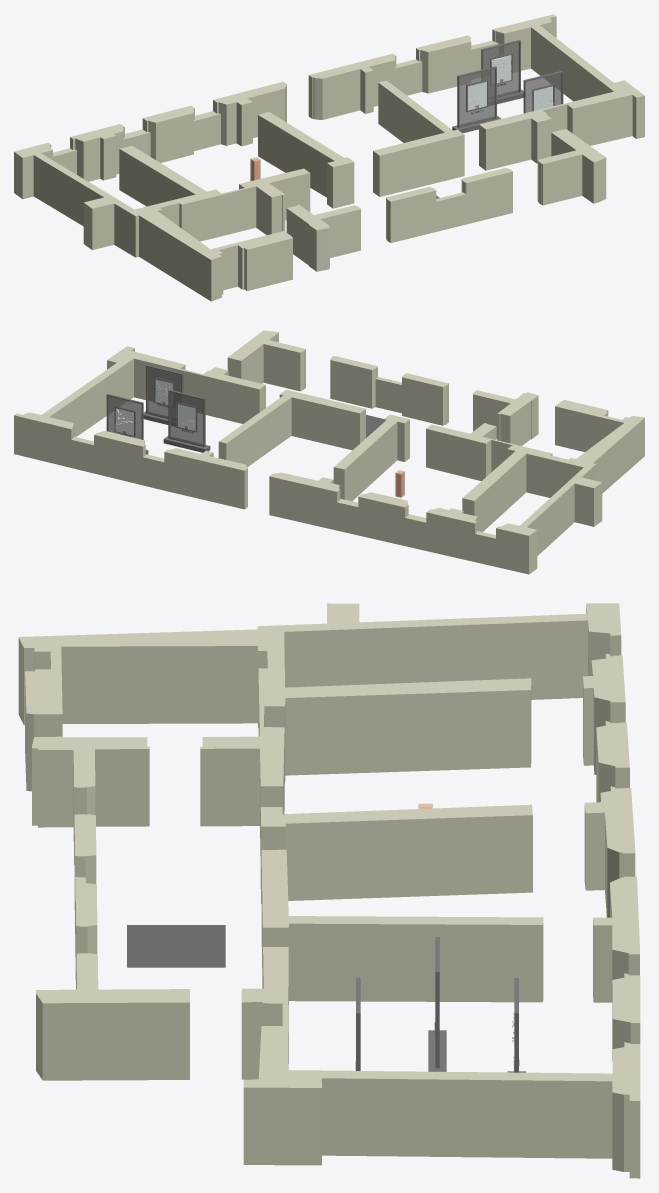
File: planar6.obj
3 views of the same model, one above another, from view 1: azimuth 30°, elevation 25°; view 2: azimuth 150°, elevation 25°; view 3: azimuth 270°, elevation 25° (orthographic). The views are drawn at different scales.
Parts seen in each view (by area): view 1: Mesh3 Model, Mesh2 Model, Mesh6 Model, Mesh4 Model, Mesh5 Model, Mesh7 Model, Mesh8 Model, Mesh11 Model, Mesh10 Model, Mesh9 Model; view 2: Mesh3 Model, Mesh2 Model, Mesh6 Model, Mesh4 Model, Mesh5 Model, Mesh7 Model, Mesh8 Model, Mesh11 Model, Mesh9 Model, Mesh10 Model; view 3: Mesh3 Model, Mesh2 Model, Mesh6 Model, Mesh5 Model, Mesh7 Model, Mesh8 Model, Mesh1 Model, Mesh4 Model, Mesh11 Model.
Boxes of the visible parts, x1,y1,x2,y2 form: Mesh3 Model: [14, 81, 310, 301]; Mesh2 Model: [308, 14, 644, 170]; Mesh6 Model: [373, 80, 464, 196]; Mesh4 Model: [386, 168, 512, 242]; Mesh5 Model: [258, 112, 354, 208]; Mesh7 Model: [537, 129, 606, 205]; Mesh8 Model: [286, 204, 360, 271]; Mesh11 Model: [452, 66, 501, 133]; Mesh10 Model: [481, 40, 523, 105]; Mesh9 Model: [523, 71, 563, 113]; Mesh3 Model: [269, 400, 644, 574]; Mesh2 Model: [14, 346, 265, 509]; Mesh6 Model: [218, 389, 365, 466]; Mesh4 Model: [330, 356, 448, 425]; Mesh5 Model: [333, 414, 409, 501]; Mesh7 Model: [227, 330, 305, 391]; Mesh8 Model: [473, 390, 538, 445]; Mesh11 Model: [163, 389, 210, 452]; Mesh9 Model: [143, 365, 183, 426]; Mesh10 Model: [106, 394, 148, 454]; Mesh3 Model: [18, 603, 635, 917]; Mesh2 Model: [241, 876, 640, 1178]; Mesh6 Model: [261, 849, 543, 1004]; Mesh5 Model: [260, 804, 532, 903]; Mesh7 Model: [36, 953, 189, 1080]; Mesh8 Model: [32, 736, 149, 864]; Mesh1 Model: [127, 925, 225, 967]; Mesh4 Model: [74, 814, 97, 989]; Mesh11 Model: [428, 937, 446, 1071].
Size of the model in its own units: 20.07 by 1.97 by 10.6.
